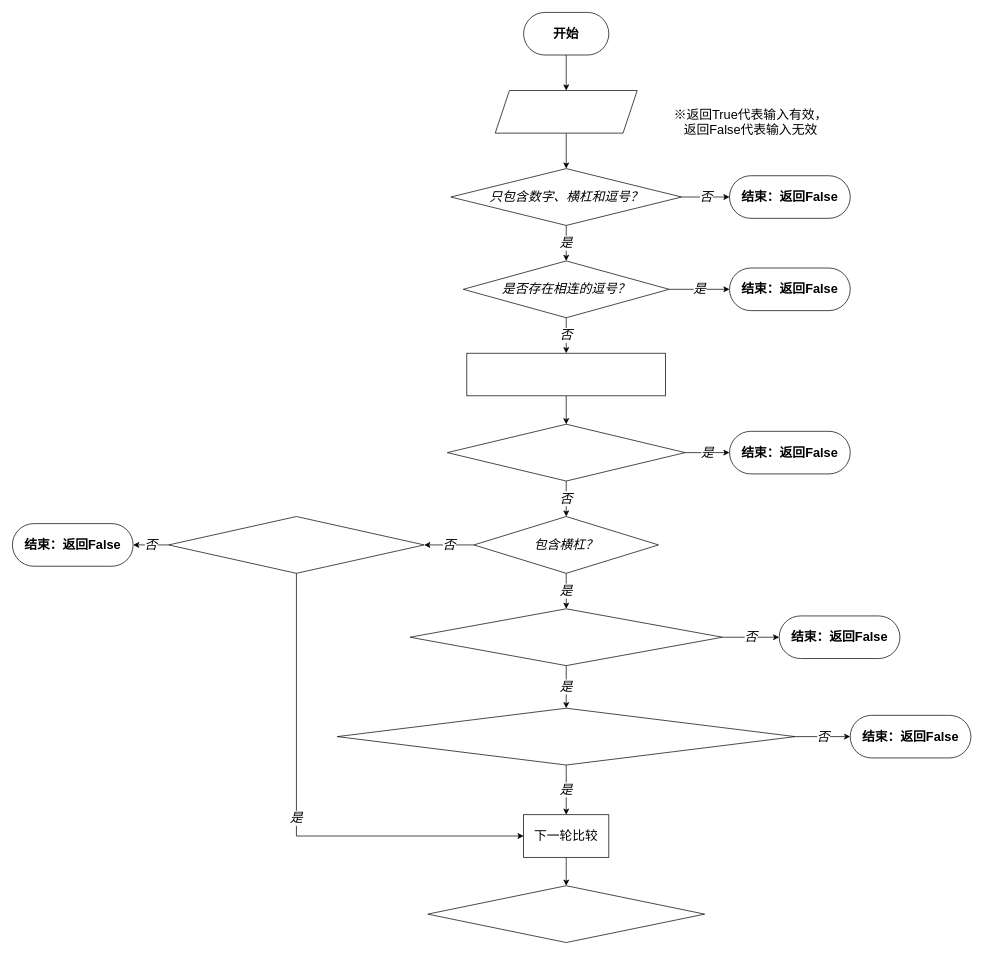
This 983x955 diagram has some shape labels left out. Each missing label, with the centre of its shape:
"list中的项包含2个及以上横杠？" belongs at (x=566, y=452).
"将s以逗号为分隔符分为列表list" belongs at (x=566, y=374).
"横杠两边的值转换为整型在1-120之间？" belongs at (x=565, y=637).
"横杠左边的值转为整型小于右边转为整型的值" belongs at (x=566, y=736).
"转换为整型后的值在1-120之间？" belongs at (x=296, y=544).
"输入：文本框的值s" belongs at (x=566, y=111).
